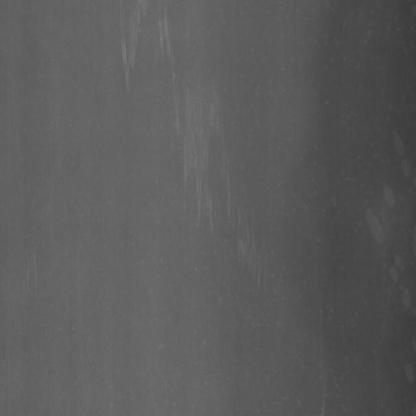oil_spot: (360, 192, 392, 258)
silk_spot: (113, 14, 250, 228)
